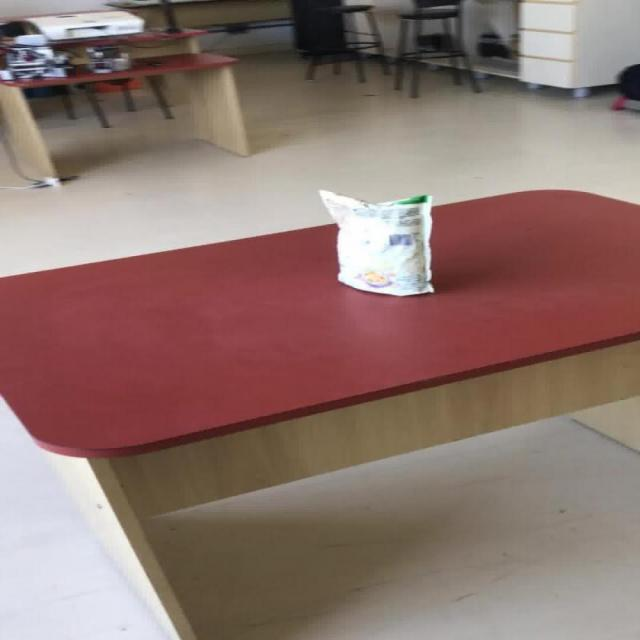CornFlakes: (316, 189, 435, 296)
